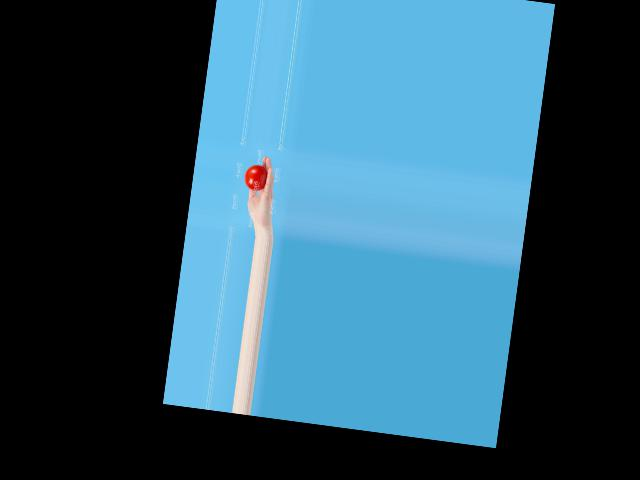tomato: (243, 163, 268, 191)
